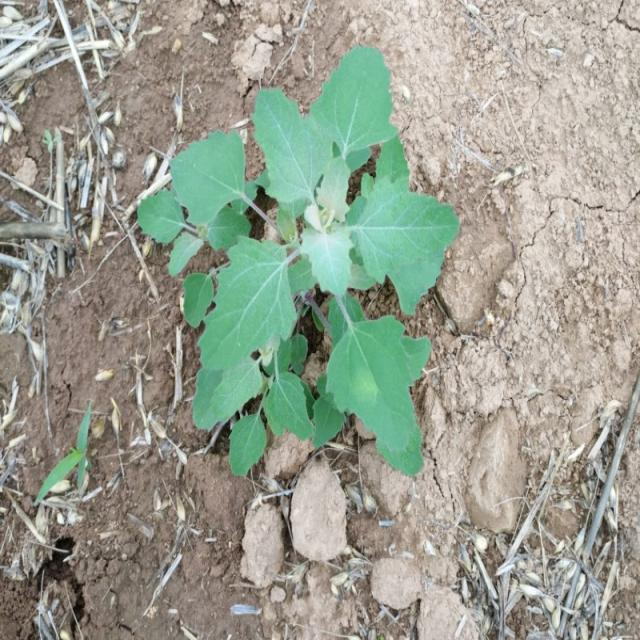goosefoots: (127, 55, 433, 468)
